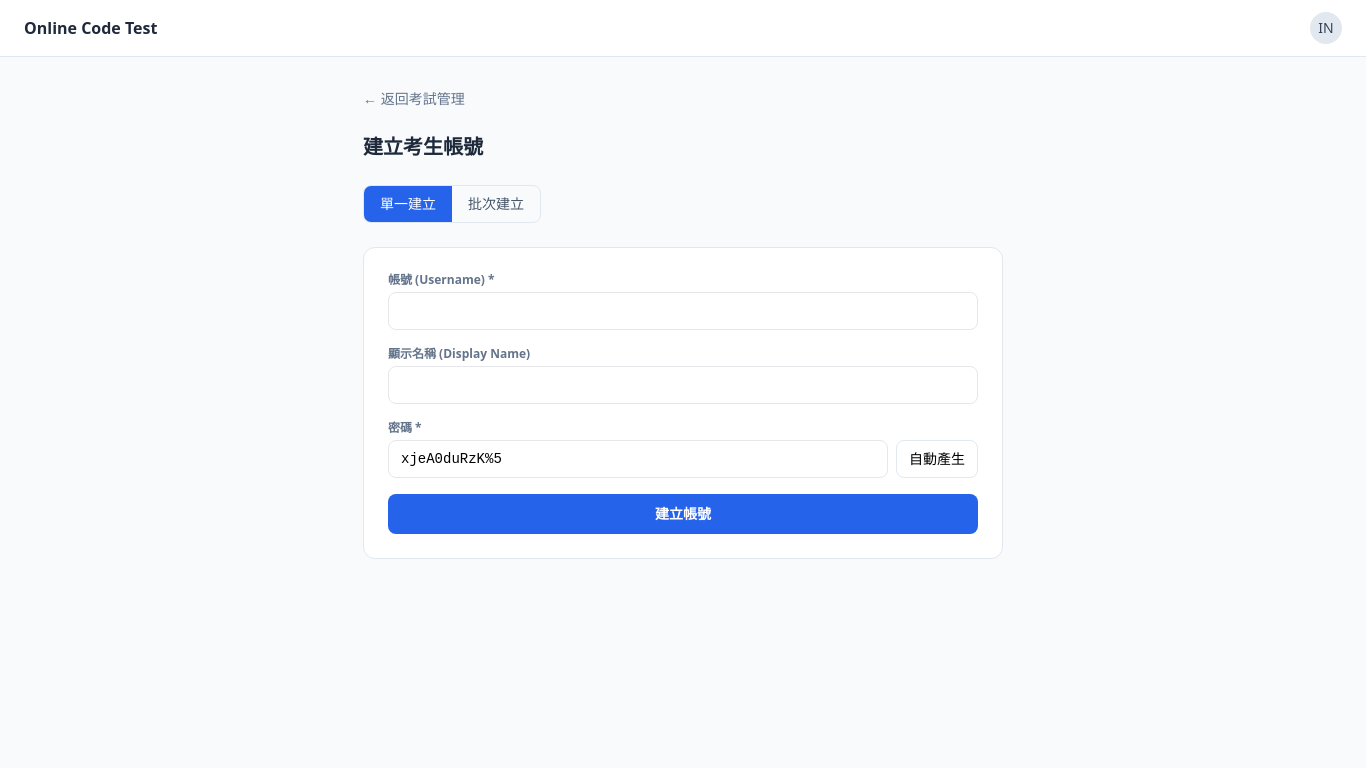
it: CandidateCreatePage() › shows error when submitting a single account without a password
The width and height of the screenshot is (1366, 768).
Type "candidate_without_pw" into the field labelled "帳號". click: (683, 311)
box: [388,292,978,330]
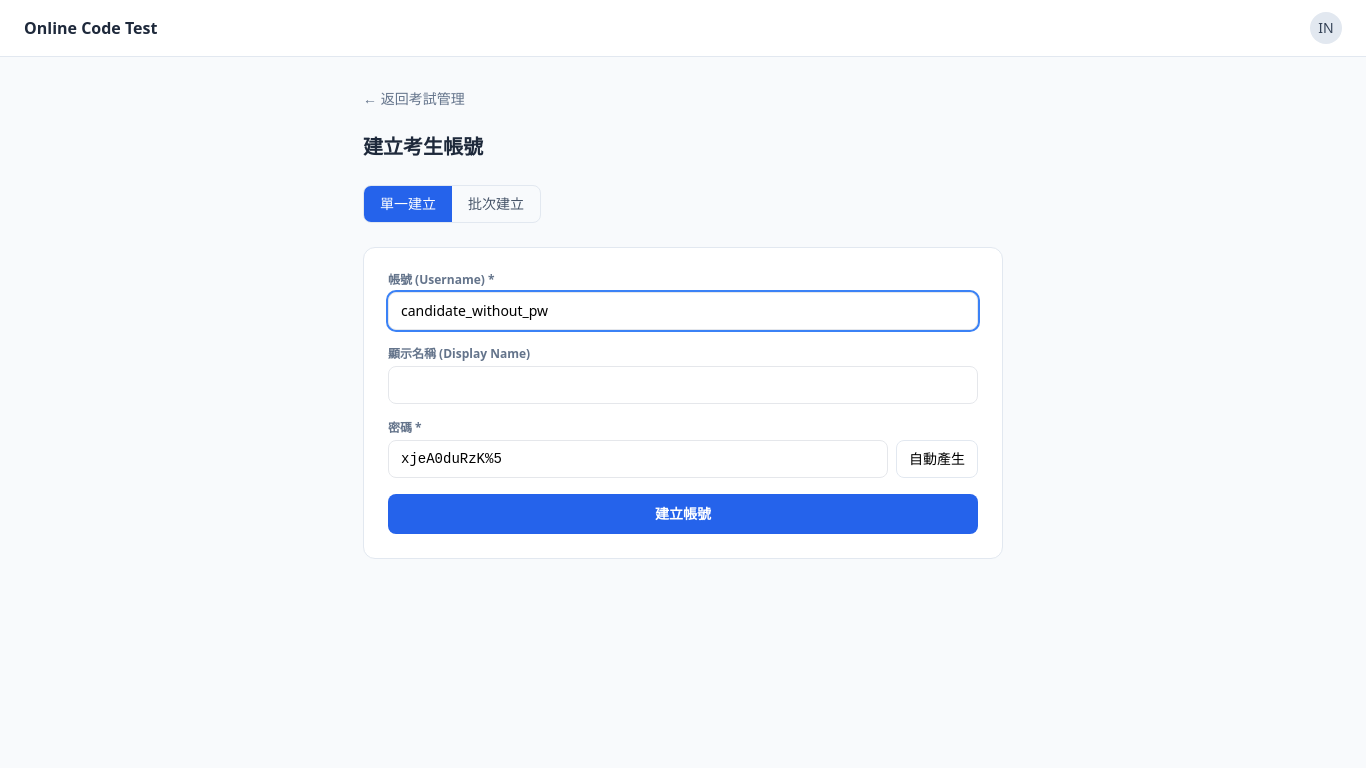
Clear the field labelled "密碼". click: (638, 459)
box: [388,440,888,478]
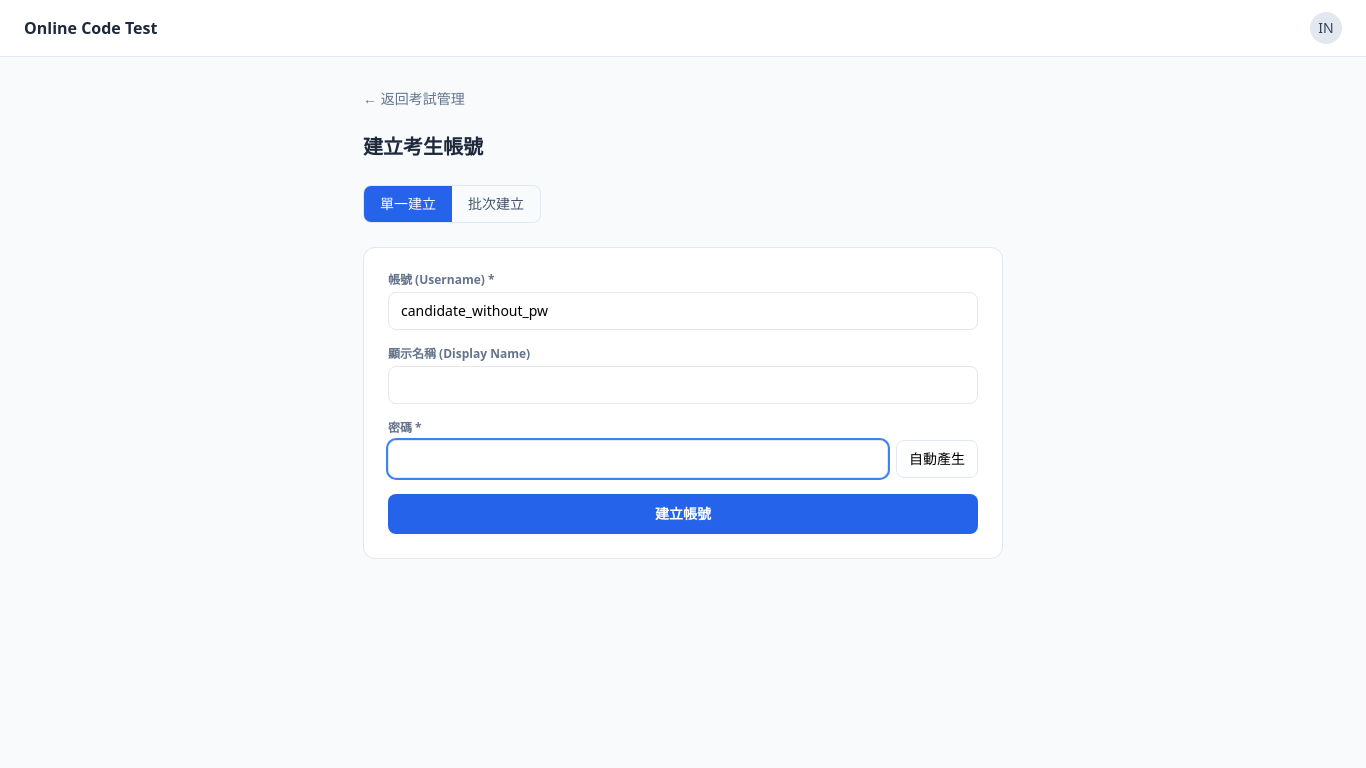
Click the button "建立帳號". click: (683, 514)
box: [388,494,978,534]
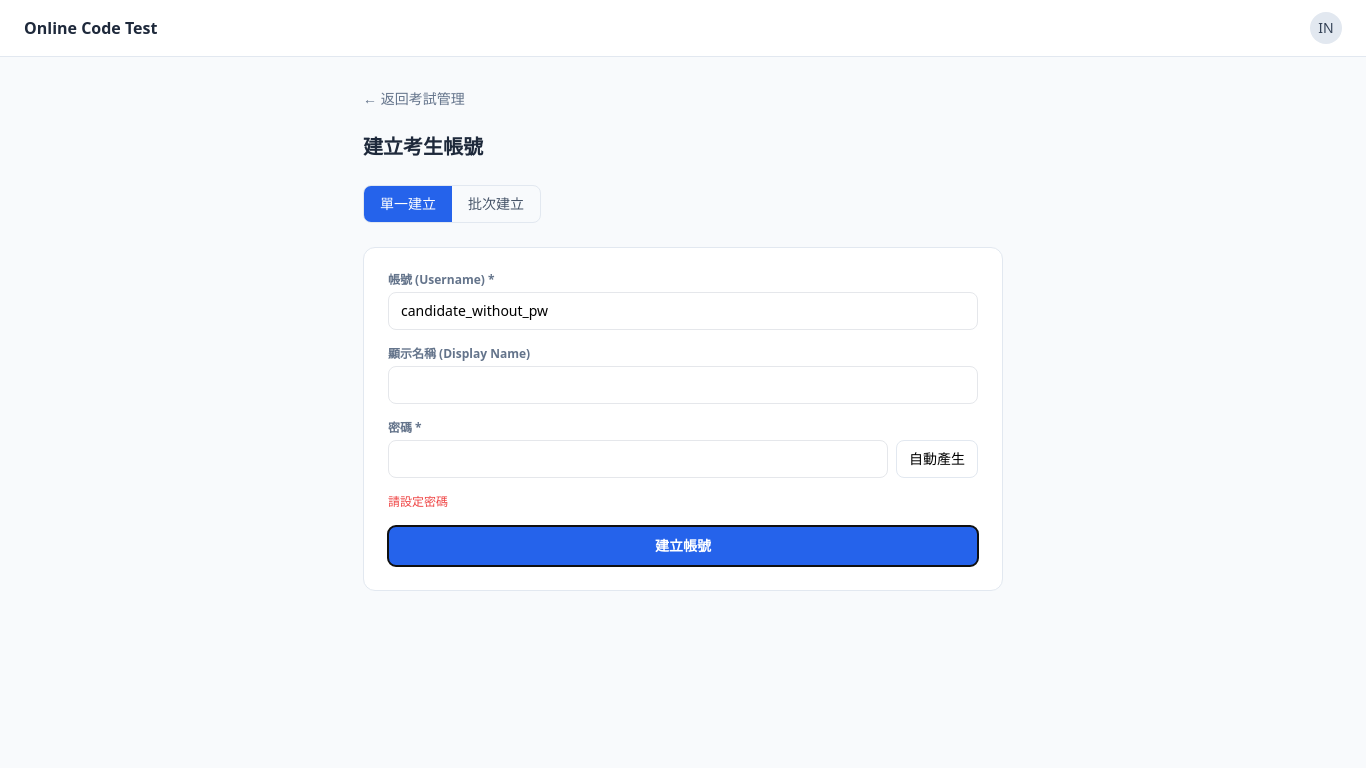
Result: the text "請設定密碼" is shown at [388,493,448,510]
